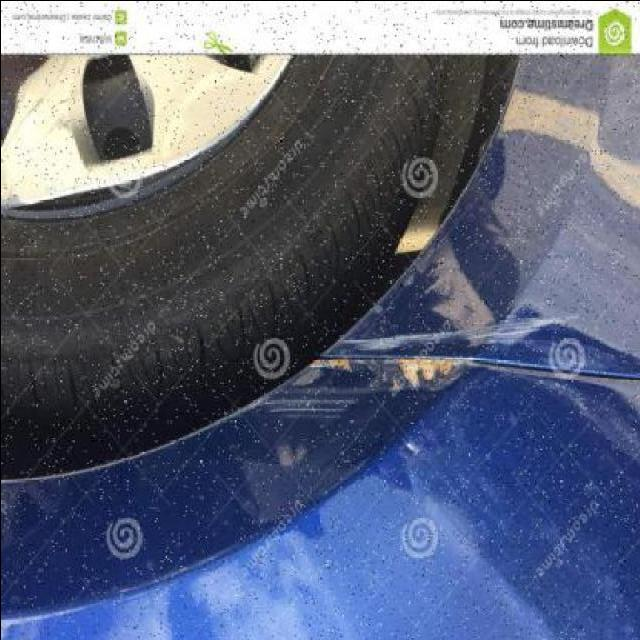quaterpanel-dent: (2, 313, 640, 639)
